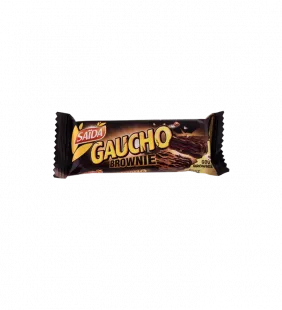GAUCHO: (43, 102, 236, 188)
